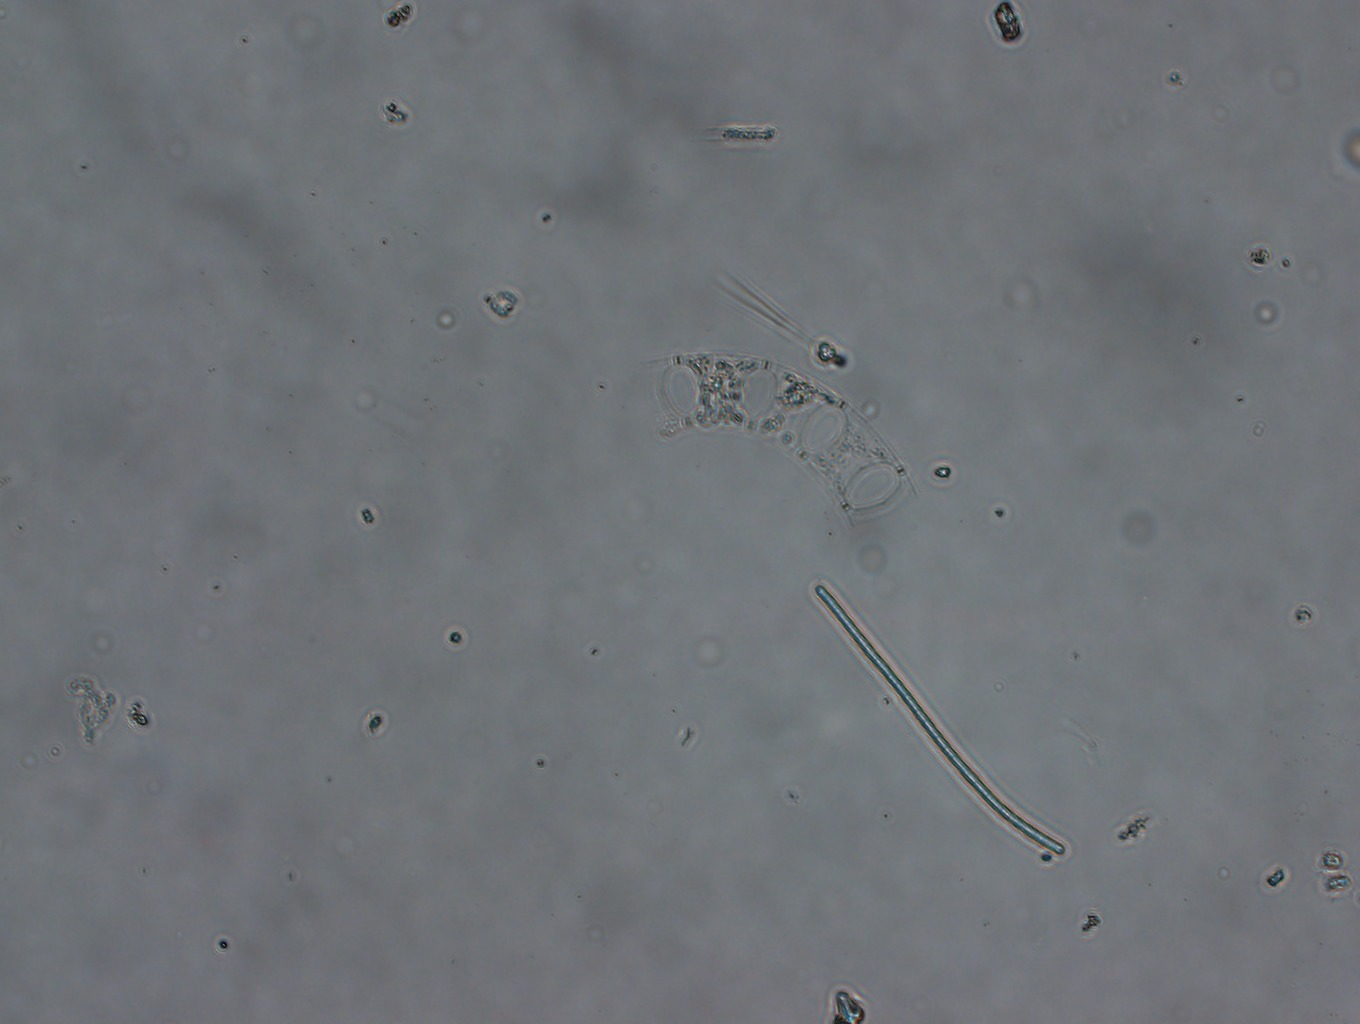eucampia: (645, 351, 918, 528)
